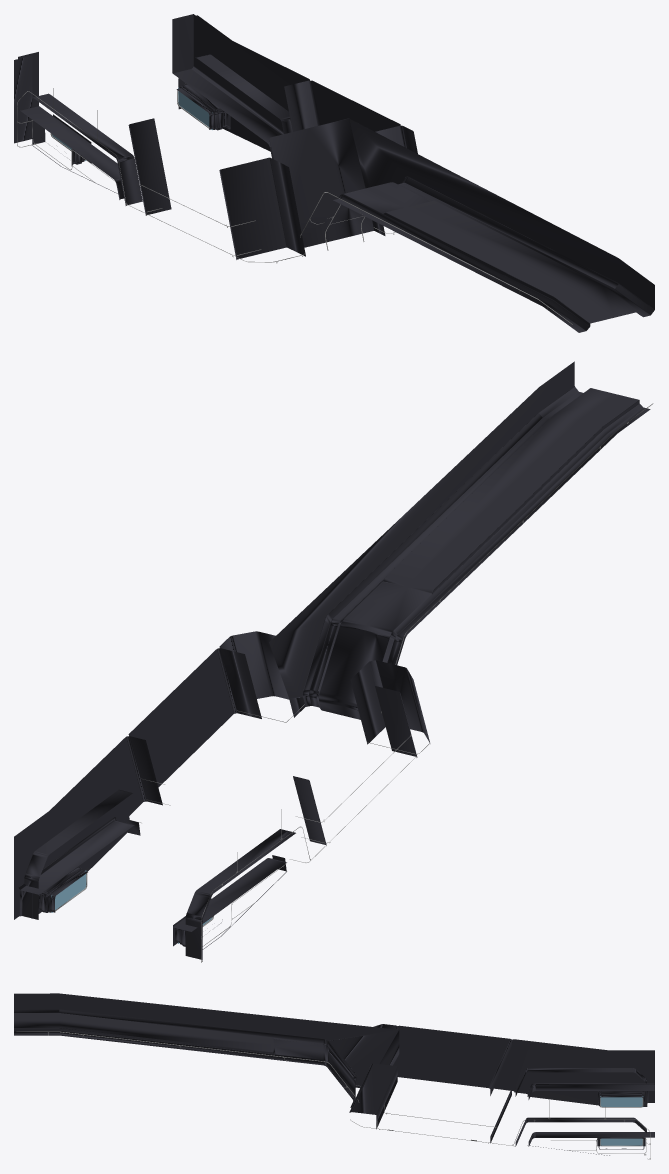
The model's file is sp_ext_surface_entrance_lobby_ext.glb.
The picture shows the model from 3 angles, top to bottom: view 1: azimuth 30°, elevation 25°; view 2: azimuth 150°, elevation 25°; view 3: azimuth 270°, elevation 25°; orthographic projection. The views are drawn at different scales.
Size of the model in its own units: 30.08 by 31.16 by 144.
